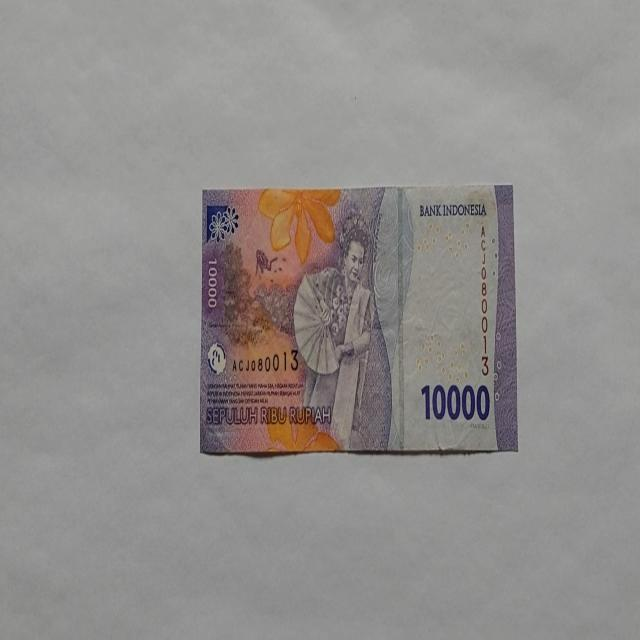sepuluh ribu rupiah: (198, 183, 518, 457)
